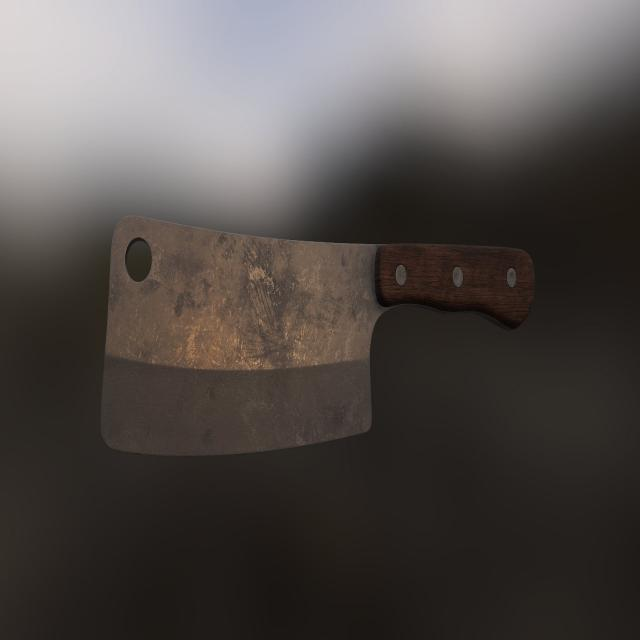cleaver: (108, 214, 537, 446)
